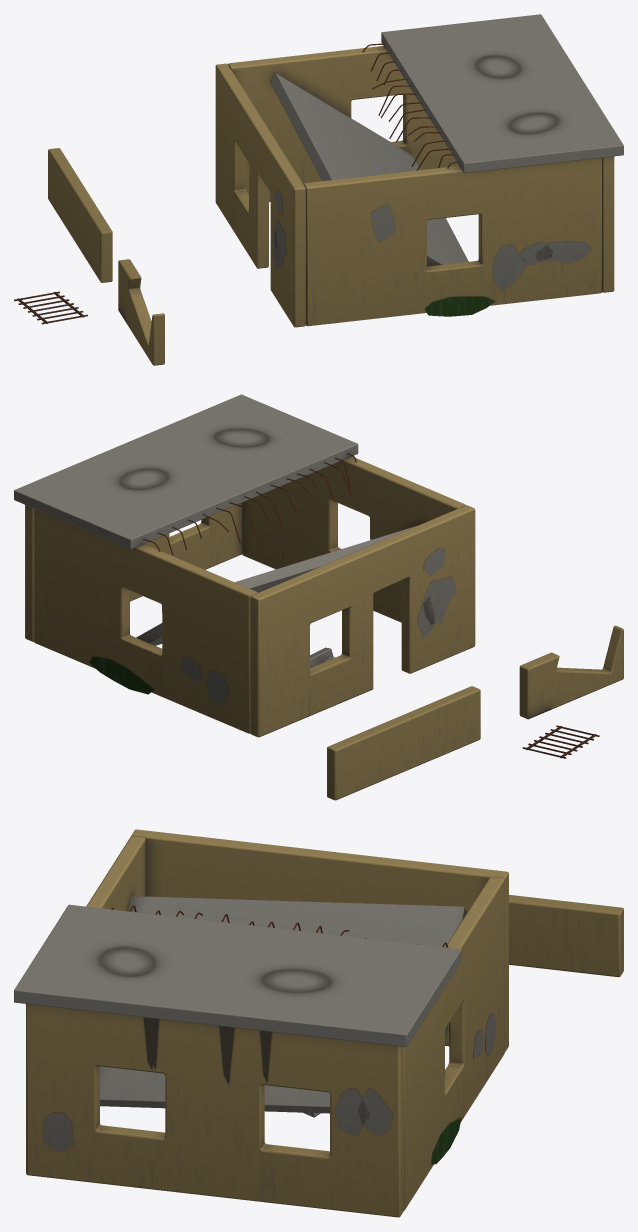
The model's file is casa_i.glb.
3 views of the same model, one above another, from view 1: azimuth 30°, elevation 25°; view 2: azimuth 150°, elevation 25°; view 3: azimuth 270°, elevation 25° (orthographic). The views are drawn at different scales.
Visible parts, largest first — view 1: g_casa_i; view 2: g_casa_i; view 3: g_casa_i.
Boxes of the visible parts, box(x1,y1,x2,y2) form: g_casa_i: box(14, 14, 623, 365); g_casa_i: box(14, 394, 623, 800); g_casa_i: box(14, 829, 623, 1217).
Bounding box in the file's own units: 12.26 × 3.4 × 9.44.
Materials: 1 (1 with a texture image).
